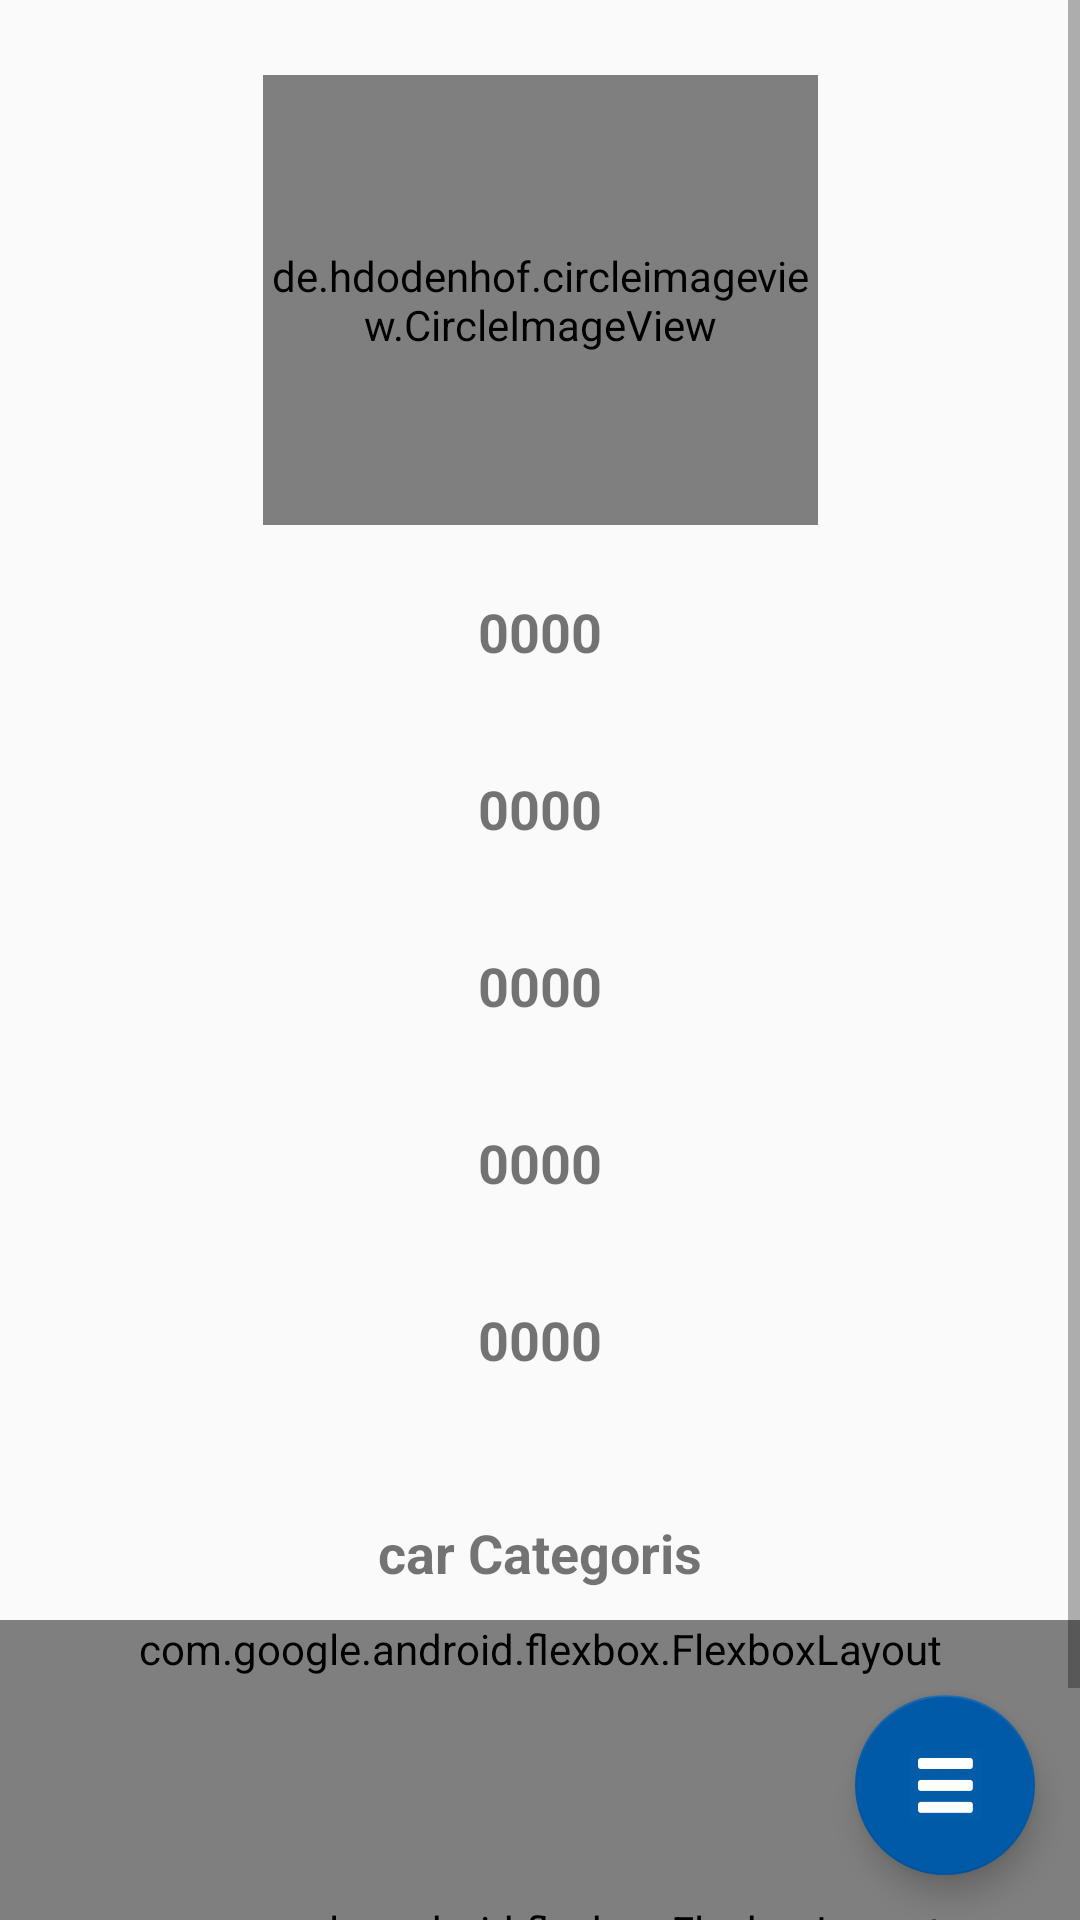

Screen size 1080x1920. Icon name, then its center in pixels as [x,y]:
list: [945,1785]
